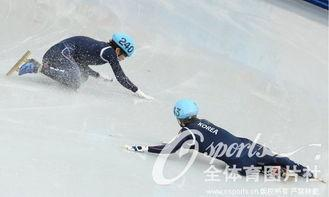Fall-Detected: (6, 24, 153, 102)
